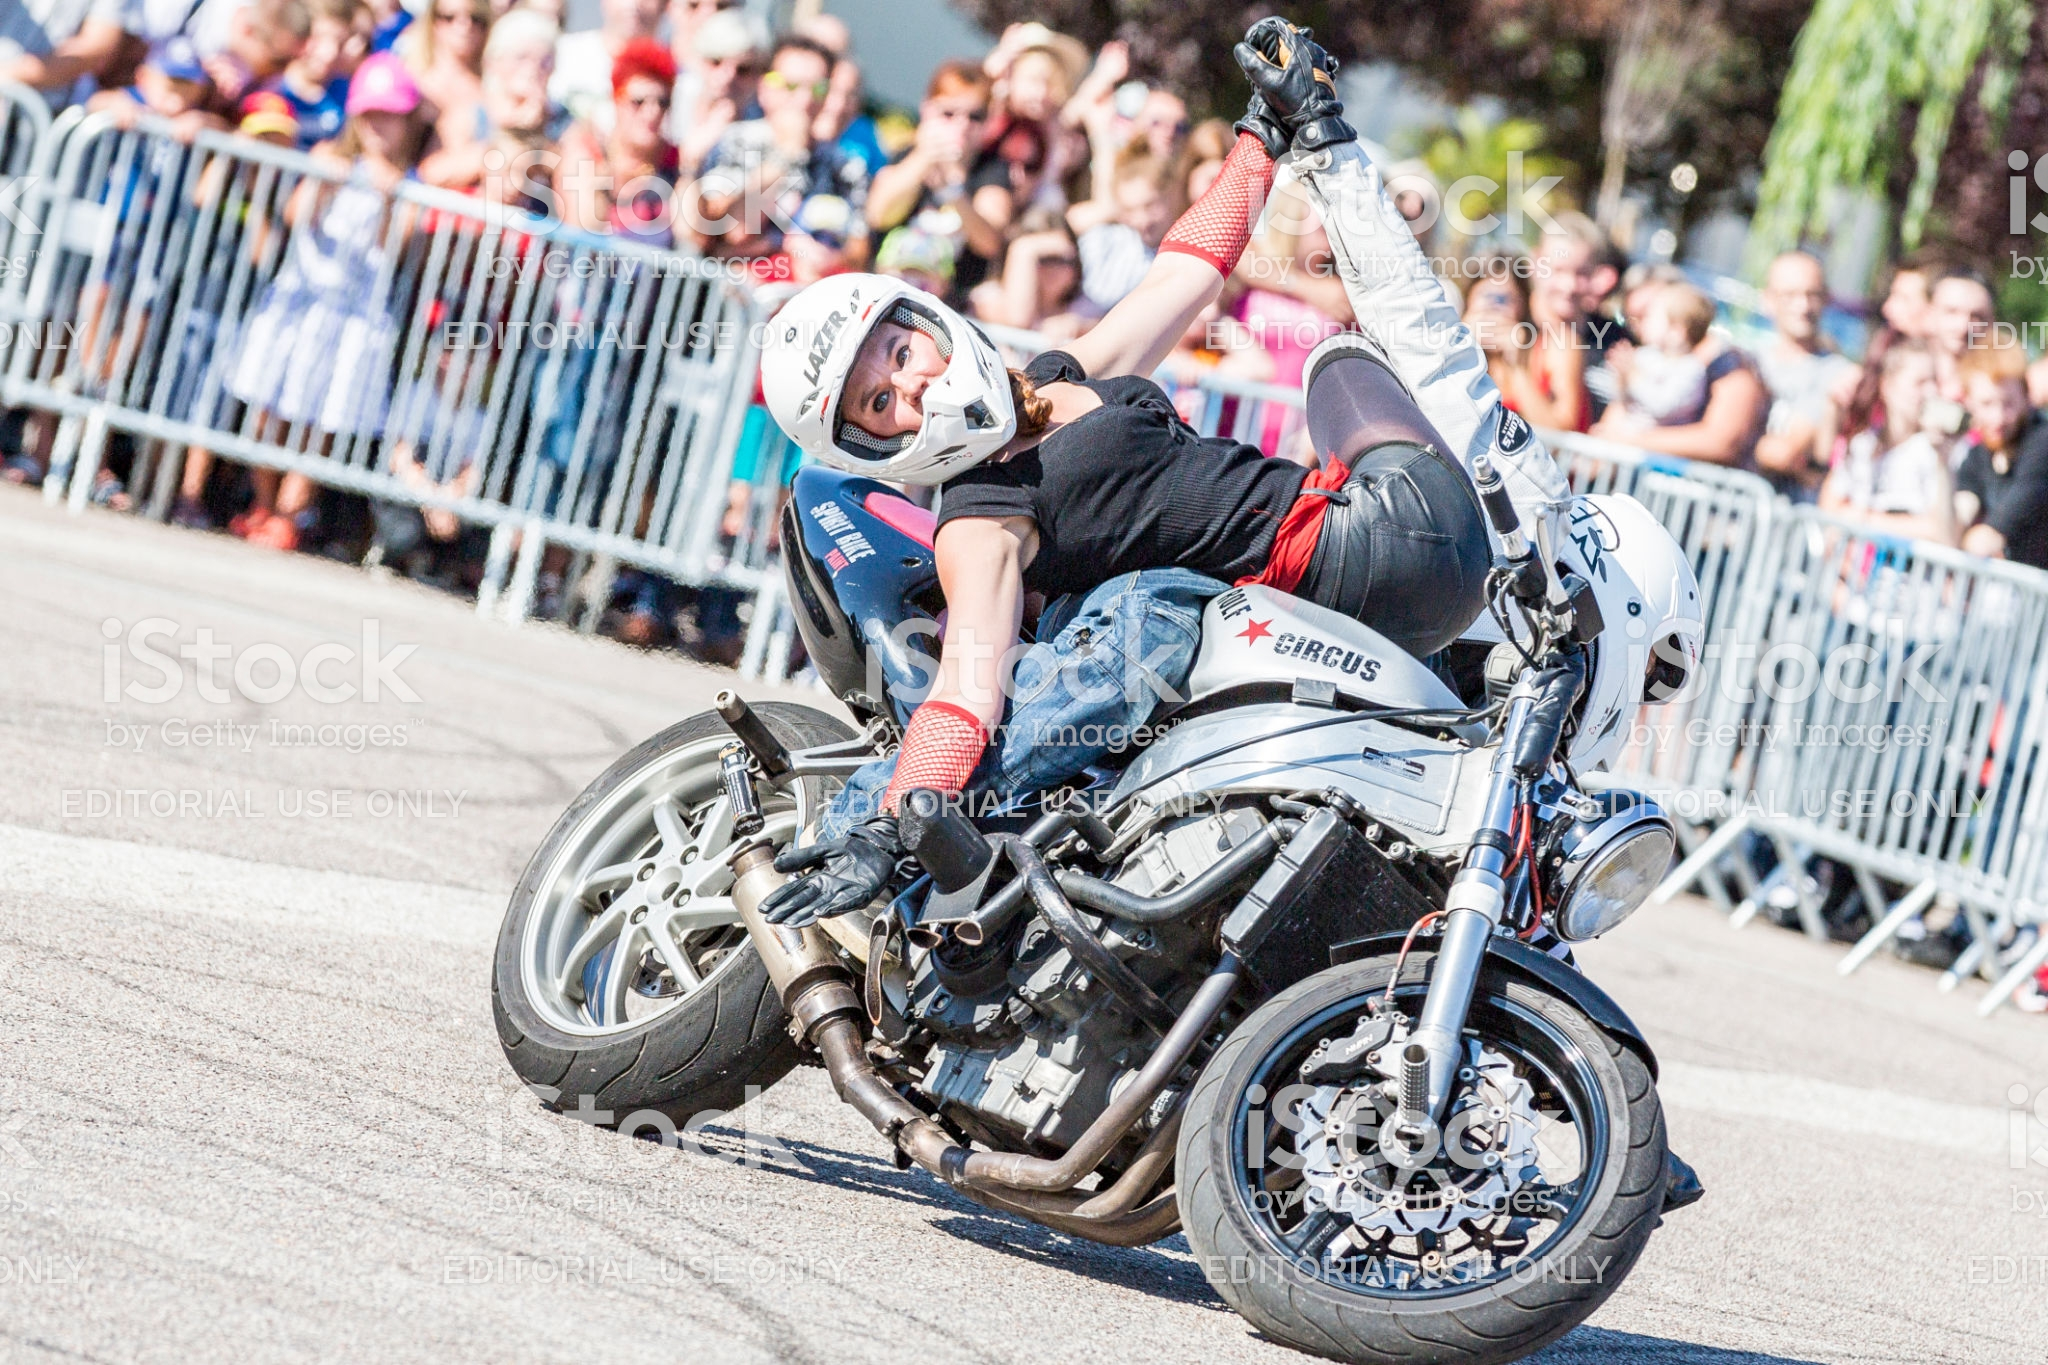helmet: (761, 257, 1026, 478)
